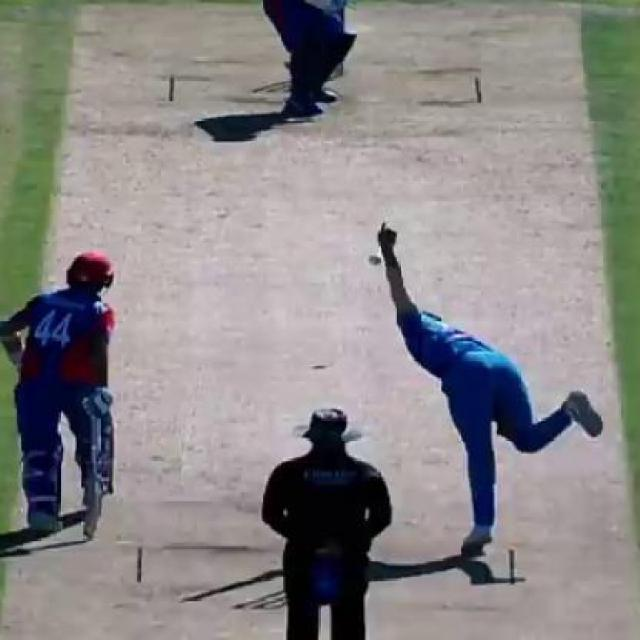Cricket ball: (368, 250, 383, 268)
